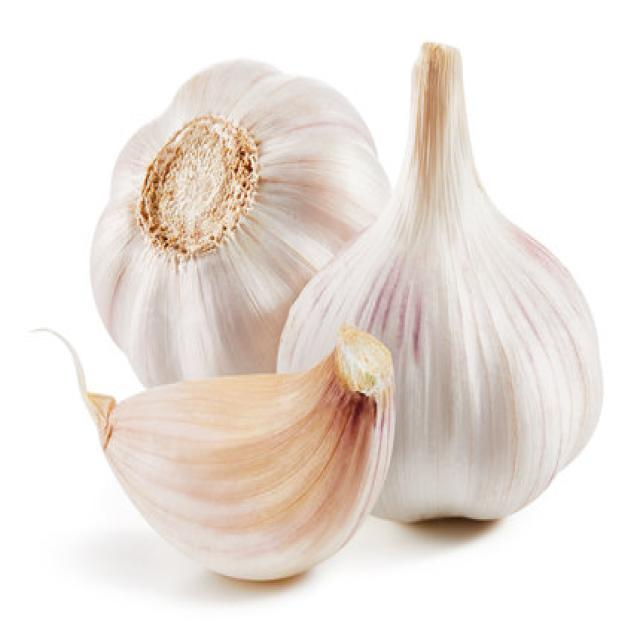Garlic: (274, 39, 603, 523), (88, 55, 391, 388), (30, 322, 396, 581)
